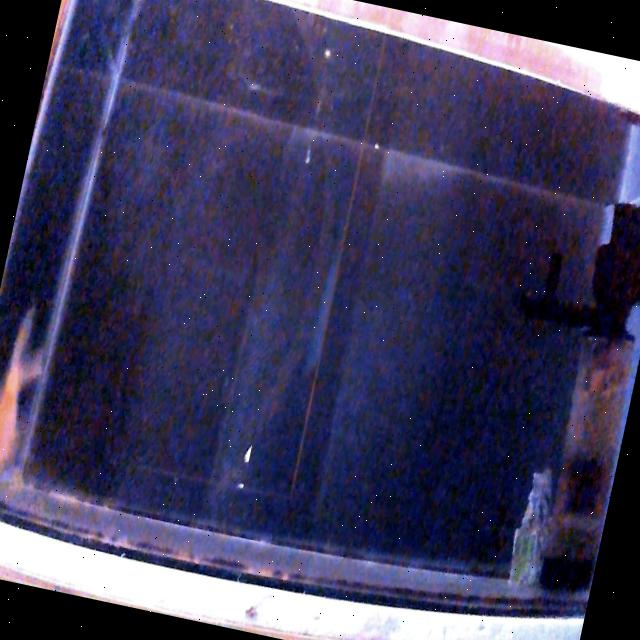fish: (0, 299, 56, 489)
